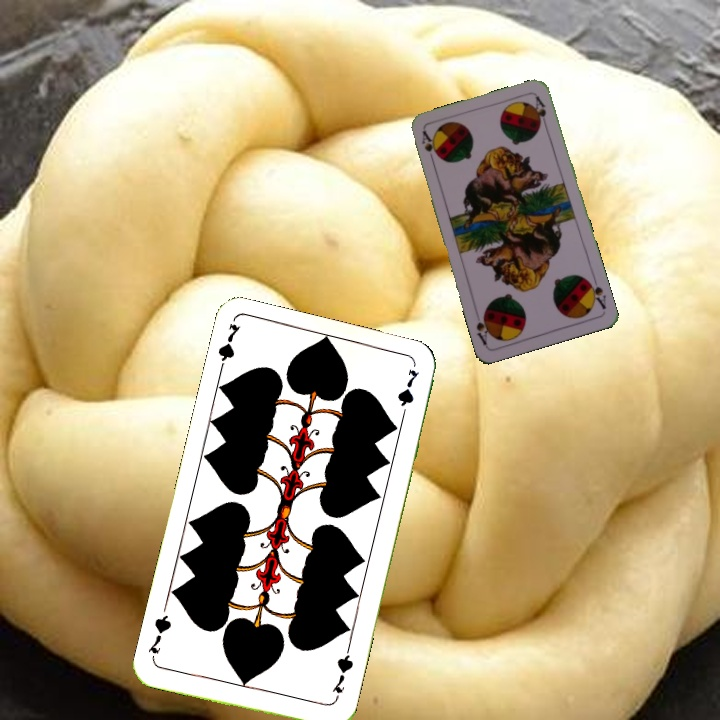G7: (214, 320, 243, 379), (329, 646, 356, 705)
SA: (583, 273, 609, 312), (418, 127, 440, 167)
